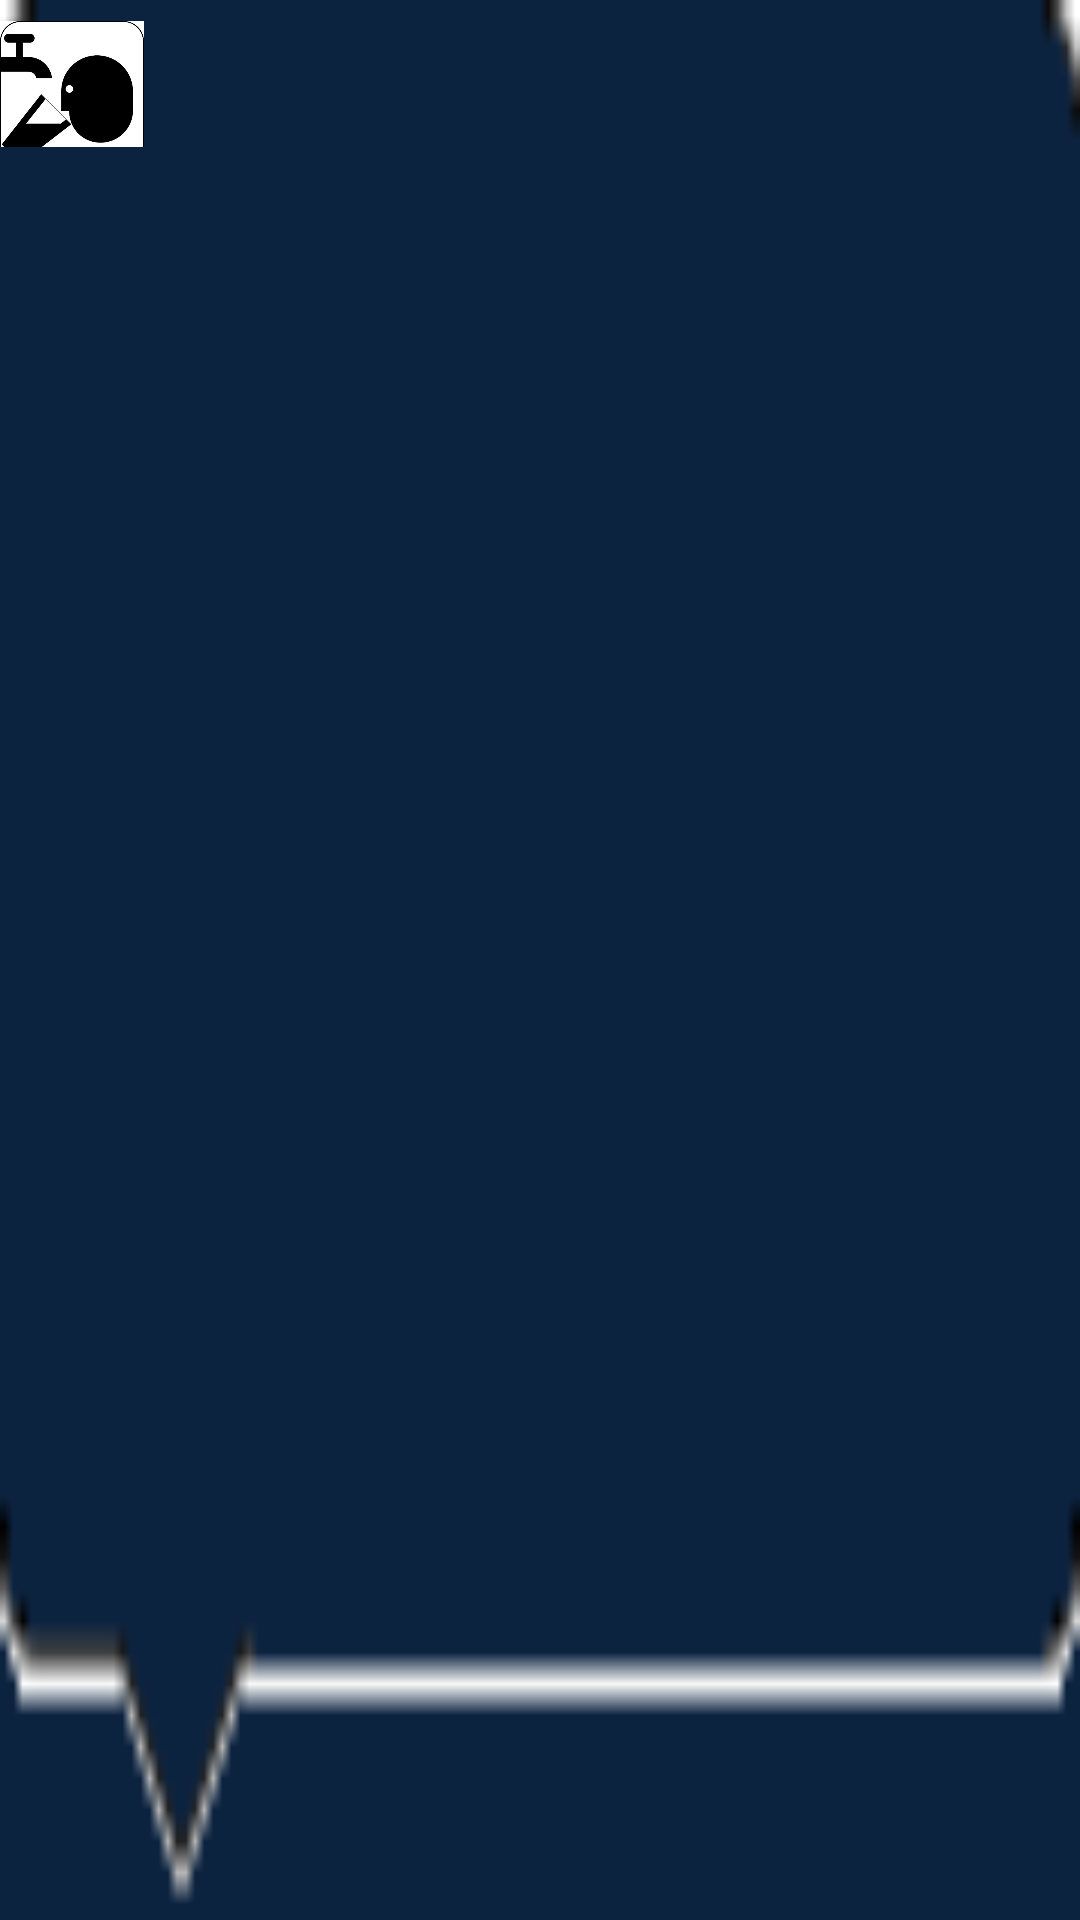

Named icons in this screenshot (1080px x 1920px) and their centers, point (x, y):
water: point (72, 84)
